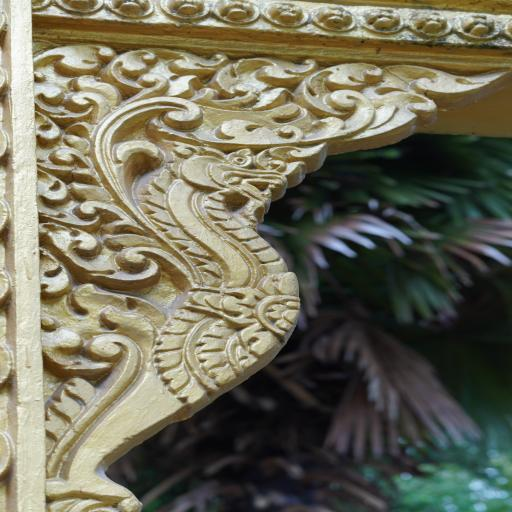hoa: (450, 3, 506, 45), (399, 4, 455, 40), (308, 0, 360, 36), (261, 0, 311, 31), (157, 0, 213, 26), (210, 0, 257, 30), (357, 3, 393, 42), (111, 0, 155, 20), (60, 0, 105, 14)
la: (367, 58, 510, 138), (32, 218, 173, 298), (35, 307, 137, 390), (31, 40, 128, 118), (102, 43, 210, 101), (292, 57, 372, 129), (26, 171, 112, 227), (218, 54, 295, 112), (52, 120, 98, 170)
ran: (43, 112, 319, 512)
